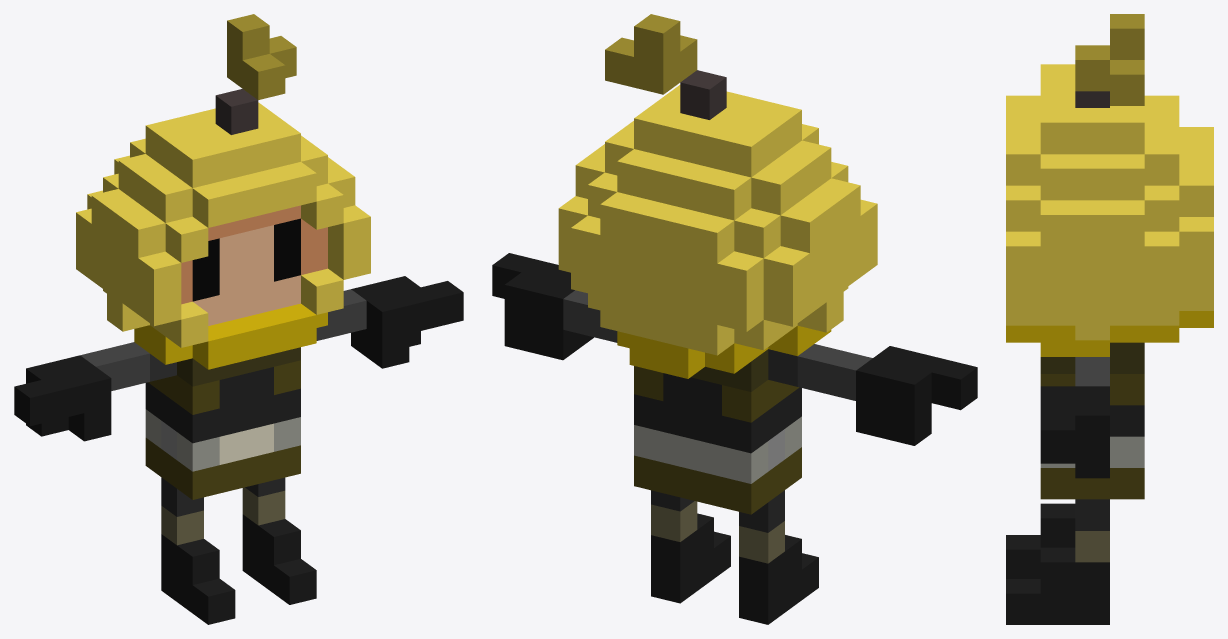
File: yellow3.obj
3 renders of one model, left to right at view 1: azimuth 30°, elevation 25°; view 2: azimuth 150°, elevation 25°; view 3: azimuth 270°, elevation 25°, orthographic. The views are drawn at different scales.
Bounding box in the file's own units: 16 × 19 × 6.
